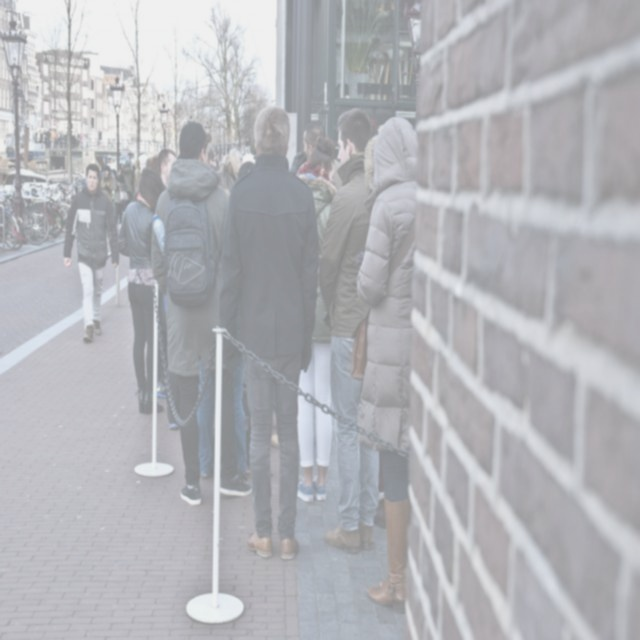pessoa: (216, 102, 320, 566), (148, 120, 254, 508), (348, 112, 423, 614), (317, 106, 382, 556), (196, 147, 248, 484), (295, 136, 339, 503), (296, 132, 338, 446), (116, 166, 166, 416), (62, 162, 120, 344), (32, 125, 85, 156), (154, 147, 180, 190), (99, 164, 114, 206), (122, 160, 134, 210), (166, 398, 180, 431), (205, 146, 220, 168), (134, 157, 142, 196), (242, 148, 256, 164), (144, 154, 158, 166), (116, 166, 122, 176)
